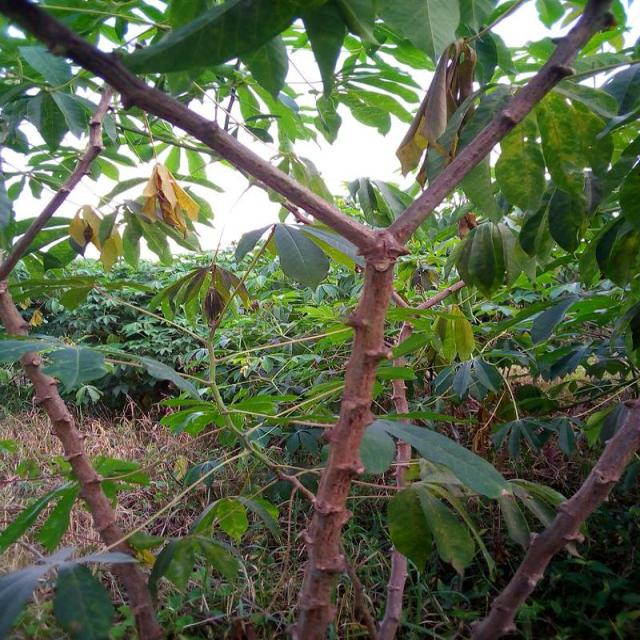cassava leaf: (274, 221, 332, 291)
